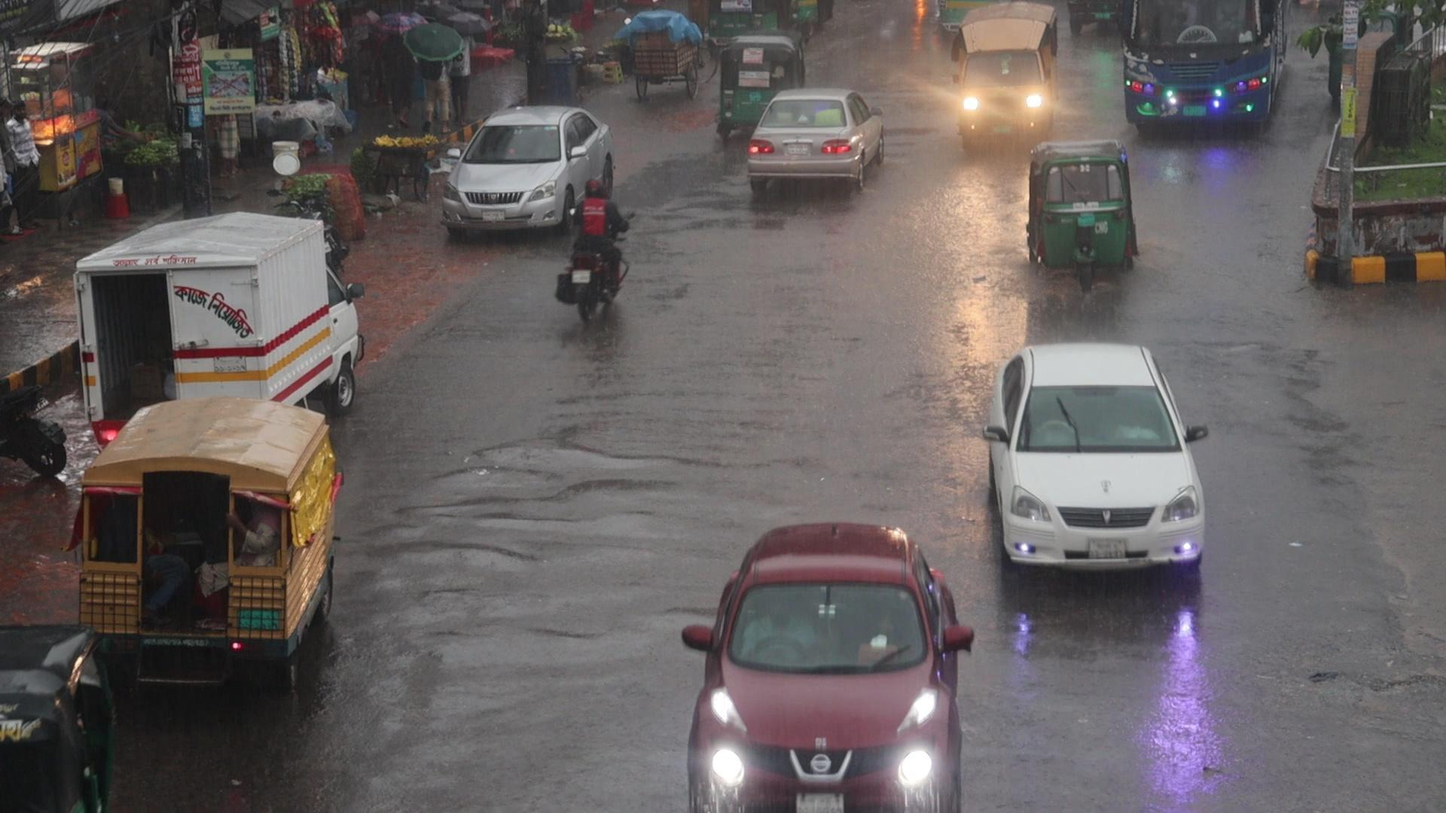Bike: (555, 178, 632, 322)
Car: (678, 520, 977, 813), (981, 343, 1209, 588), (743, 85, 885, 188)
Truck: (75, 395, 341, 674), (955, 3, 1059, 143)
